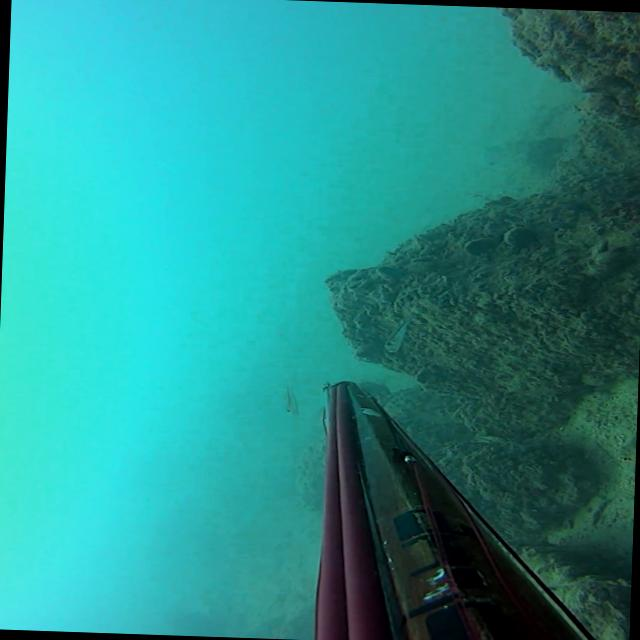Balon Baligi: (384, 313, 414, 352), (619, 428, 636, 462), (284, 382, 299, 414)
